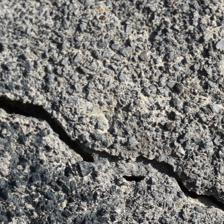Crack: (4, 93, 122, 173), (140, 152, 222, 214)
